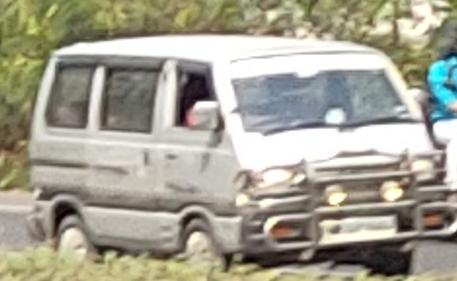Auto: (28, 32, 447, 275)
